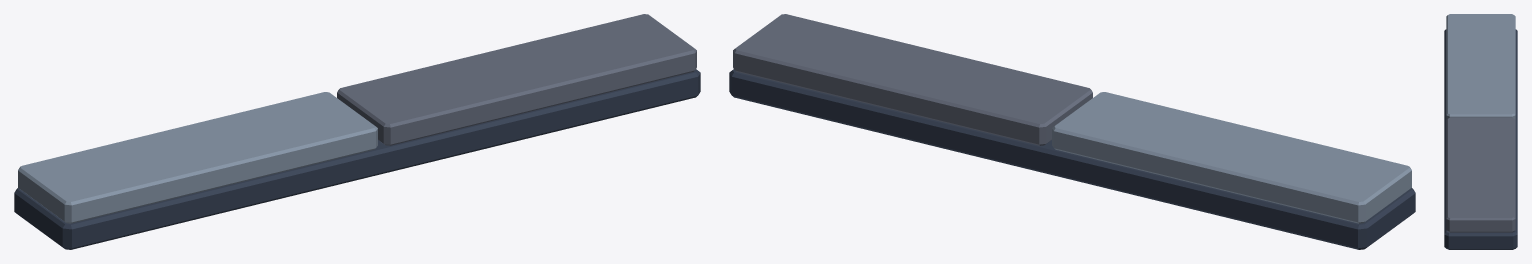
File: floor-border.glb
The picture shows the model from 3 angles, left to right: view 1: azimuth 30°, elevation 25°; view 2: azimuth 150°, elevation 25°; view 3: azimuth 270°, elevation 25°; orthographic projection. The views are drawn at different scales.
Parts seen in each view (by area): view 1: floor-border__body; view 2: floor-border__body; view 3: floor-border__body.
Boxes of the visible parts, bbox=[...] form: floor-border__body: bbox=[14, 14, 700, 249]; floor-border__body: bbox=[729, 14, 1415, 249]; floor-border__body: bbox=[1444, 14, 1517, 249].
Size of the model in its own units: 2 by 0.14 by 0.3.
